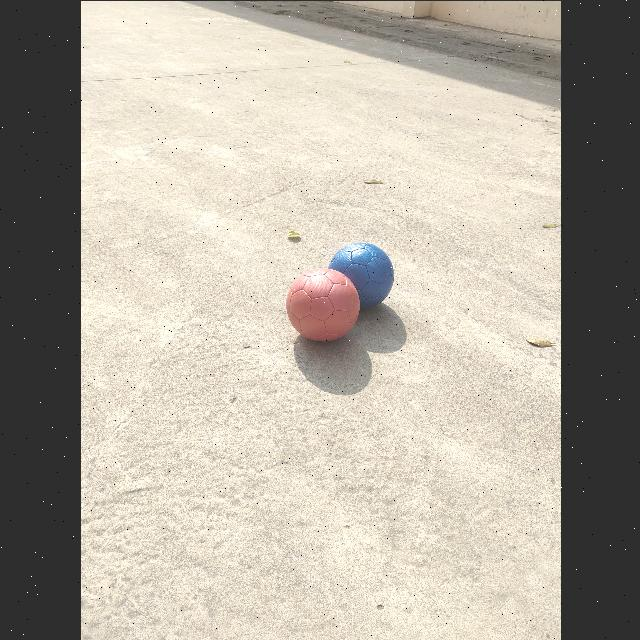B: (329, 242, 394, 308)
R: (285, 267, 359, 340)
